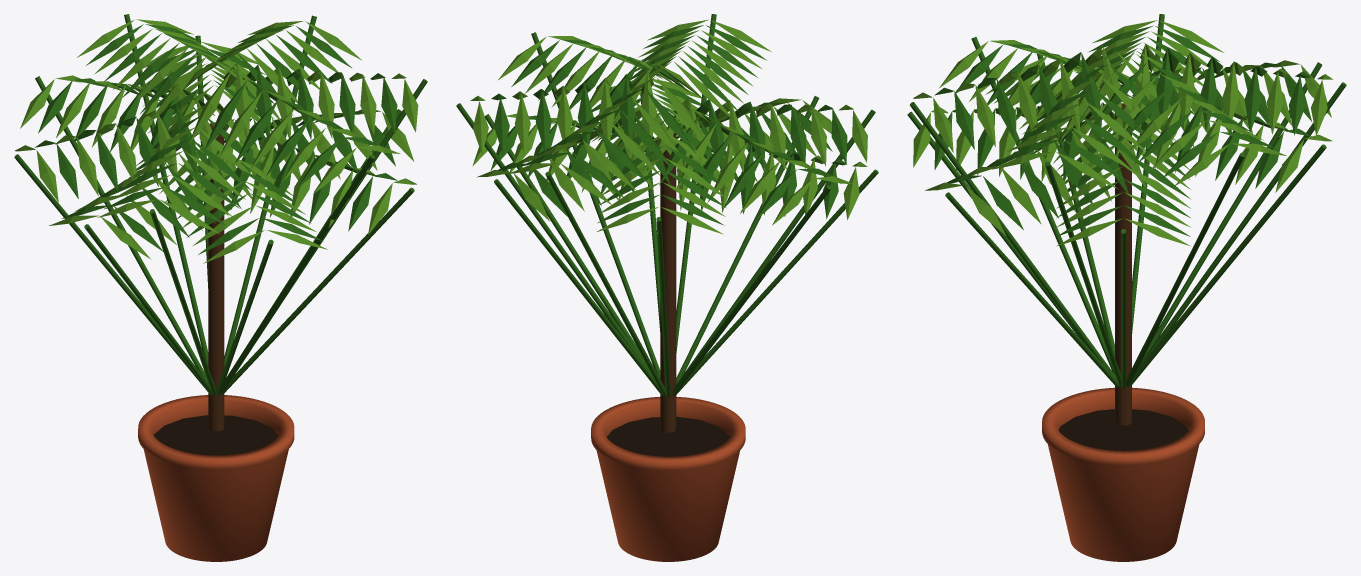
The model's file is Palma_cserepben.obj.
The picture shows the model from 3 angles, left to right: view 1: azimuth 30°, elevation 25°; view 2: azimuth 150°, elevation 25°; view 3: azimuth 270°, elevation 25°; orthographic projection. The views are drawn at different scales.
Bounding box in the file's own units: 1.3 × 1.61 × 1.29.
